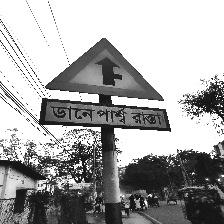Side-road-right: (41, 38, 170, 131)
